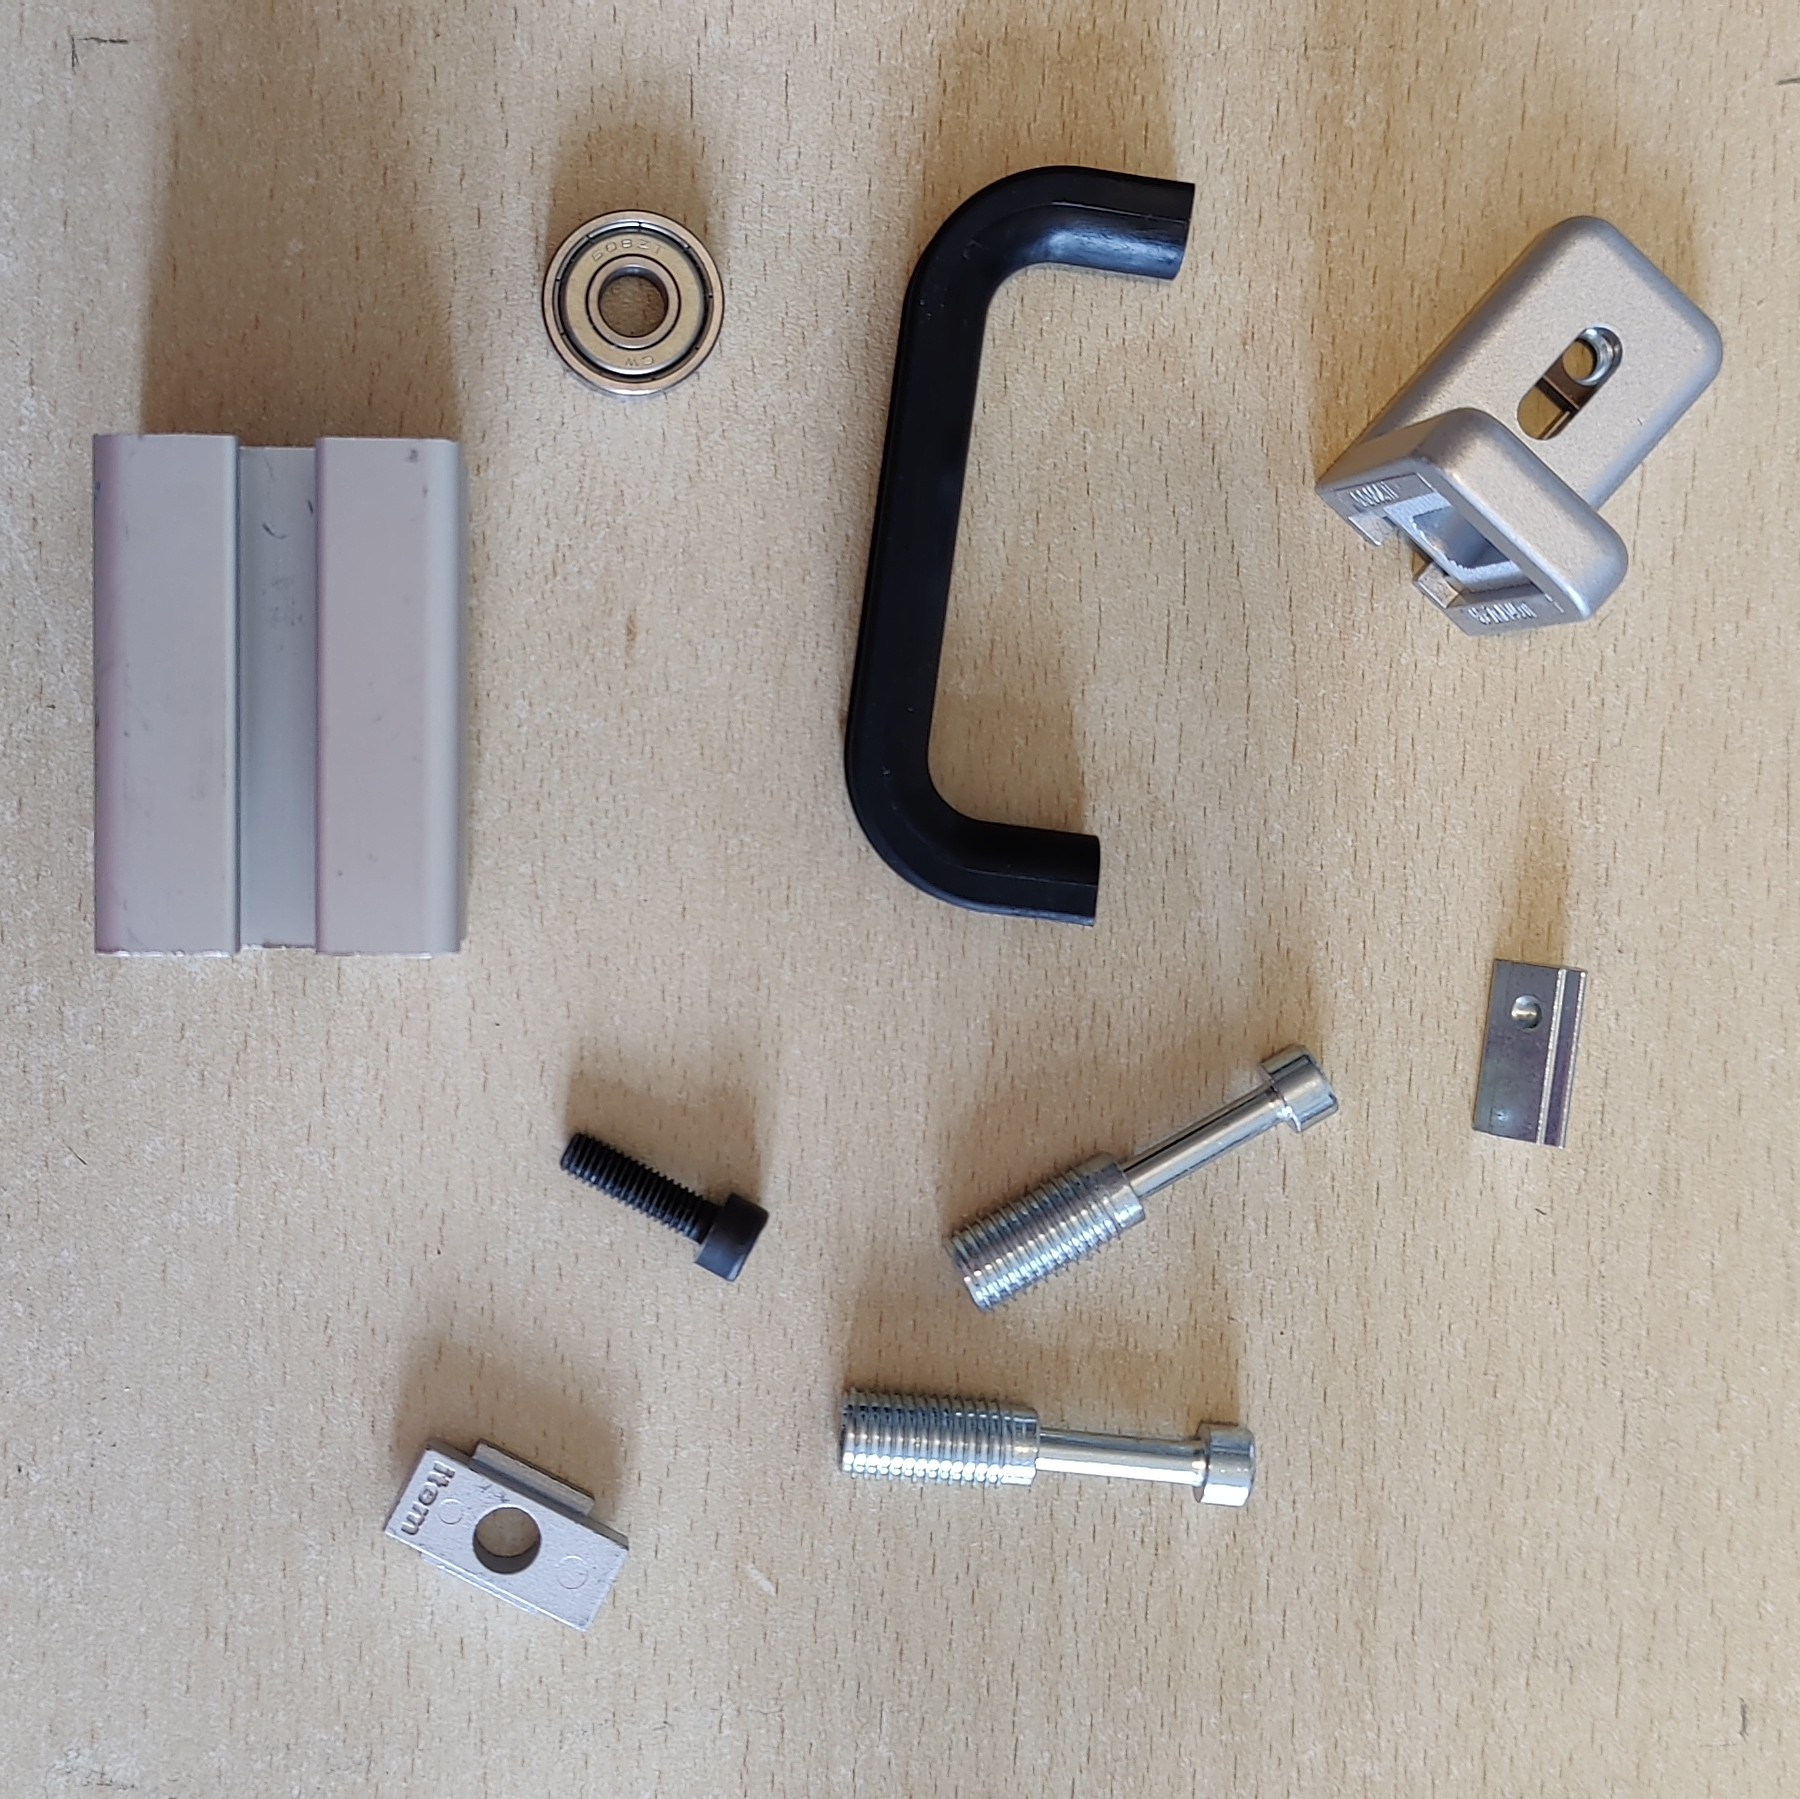Aluminium Extension: (89, 428, 474, 964)
Ball Bearing: (539, 208, 728, 402)
Multiwinkel: (1313, 211, 1728, 638)
Pull Handle: (842, 163, 1201, 931)
Shoulder Socket Head Cap Screw: (939, 1041, 1342, 1318), (832, 1379, 1258, 1511)
Socket Head Cap Screw: (555, 1120, 772, 1283)
T Nut Square: (380, 1433, 632, 1638)
T Spring Nut: (1466, 952, 1589, 1150)
